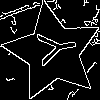Y: (27, 27, 79, 68)
